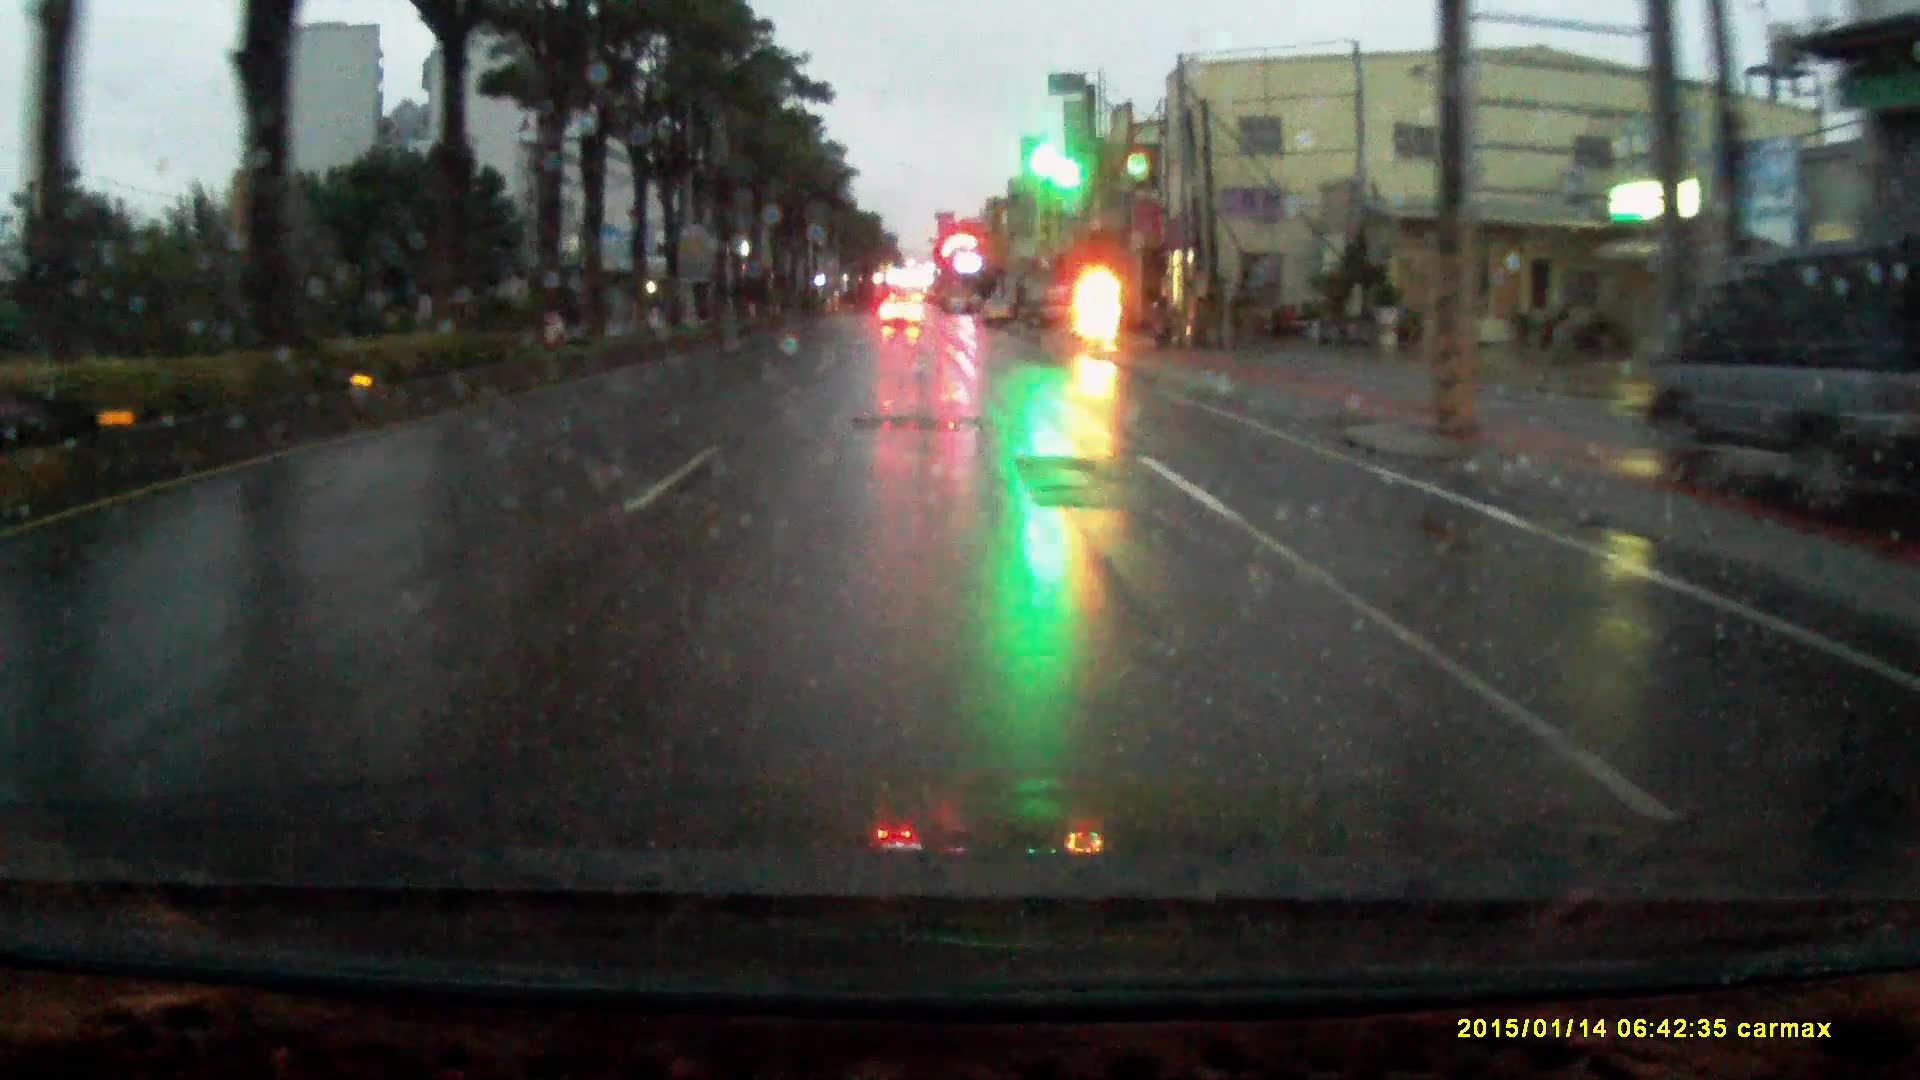vehicle: (1648, 233, 1920, 525), (1018, 281, 1089, 324), (880, 291, 926, 328)
